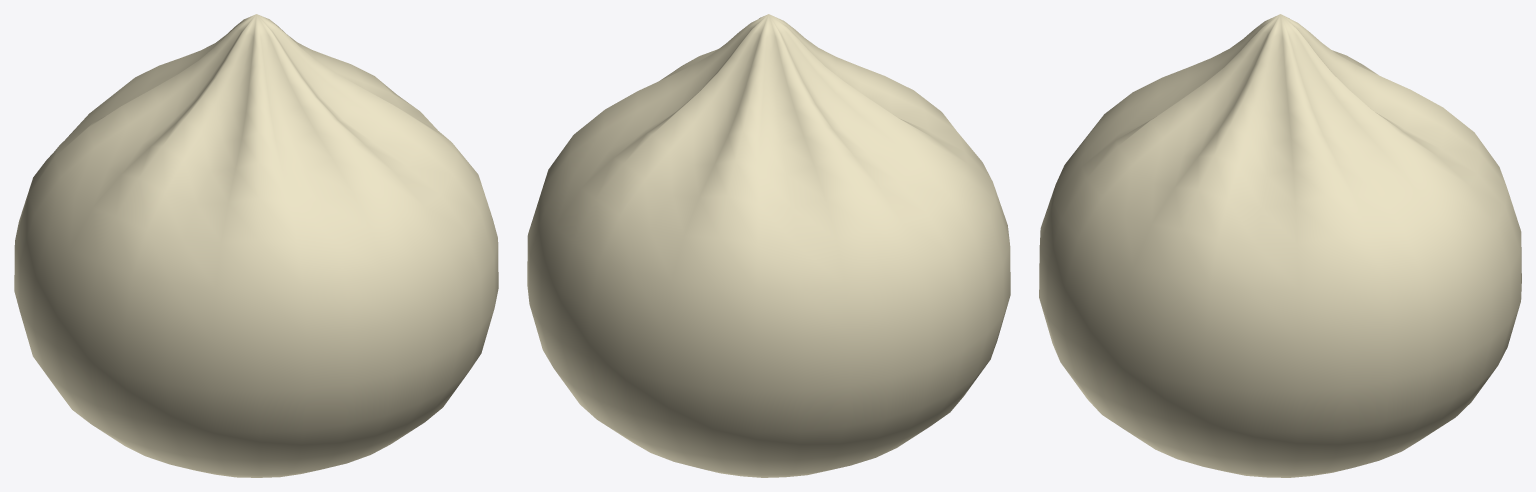
The model's file is nikuman.fbx.
3 views of the same model, side by side, from view 1: azimuth 30°, elevation 25°; view 2: azimuth 150°, elevation 25°; view 3: azimuth 270°, elevation 25° (orthographic).
Visible parts, largest first — view 1: Dumpling; view 2: Dumpling; view 3: Dumpling.
Part boxes in pixels (x1=…): Dumpling: x1=14, y1=14, x2=498, y2=477; Dumpling: x1=527, y1=14, x2=1010, y2=477; Dumpling: x1=1039, y1=14, x2=1521, y2=477.
Bounding box in the file's own units: 47.88 × 48 × 47.88.
